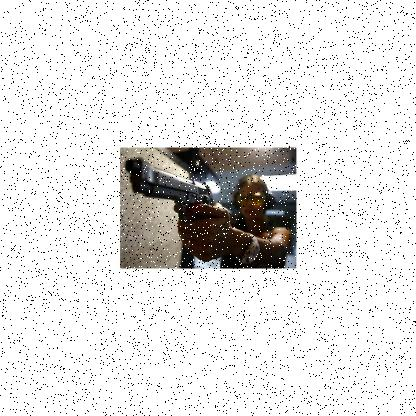gun: (124, 154, 216, 262)
